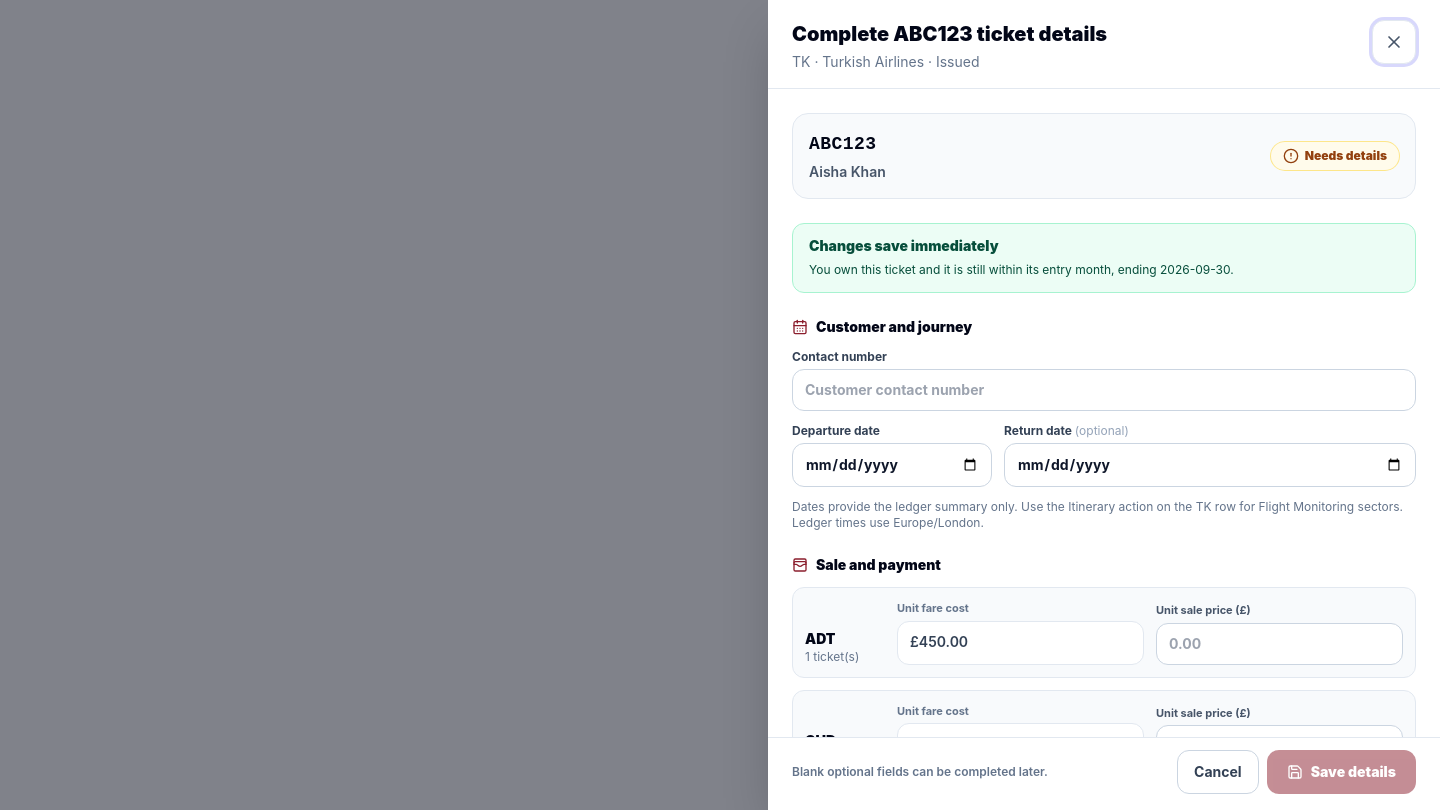
TicketCompletionDrawer › requires all missing issued sale prices together and all sales before Paid
This screenshot has width=1440, height=810.
Expected: the dialog "Complete ABC123 ticket details" is shown, x1=768 y1=0 x2=1439 y2=809
Type "525" into the field named "ADT unit sale price" at (1280, 644), box x1=1156 y1=622 x2=1403 y2=664
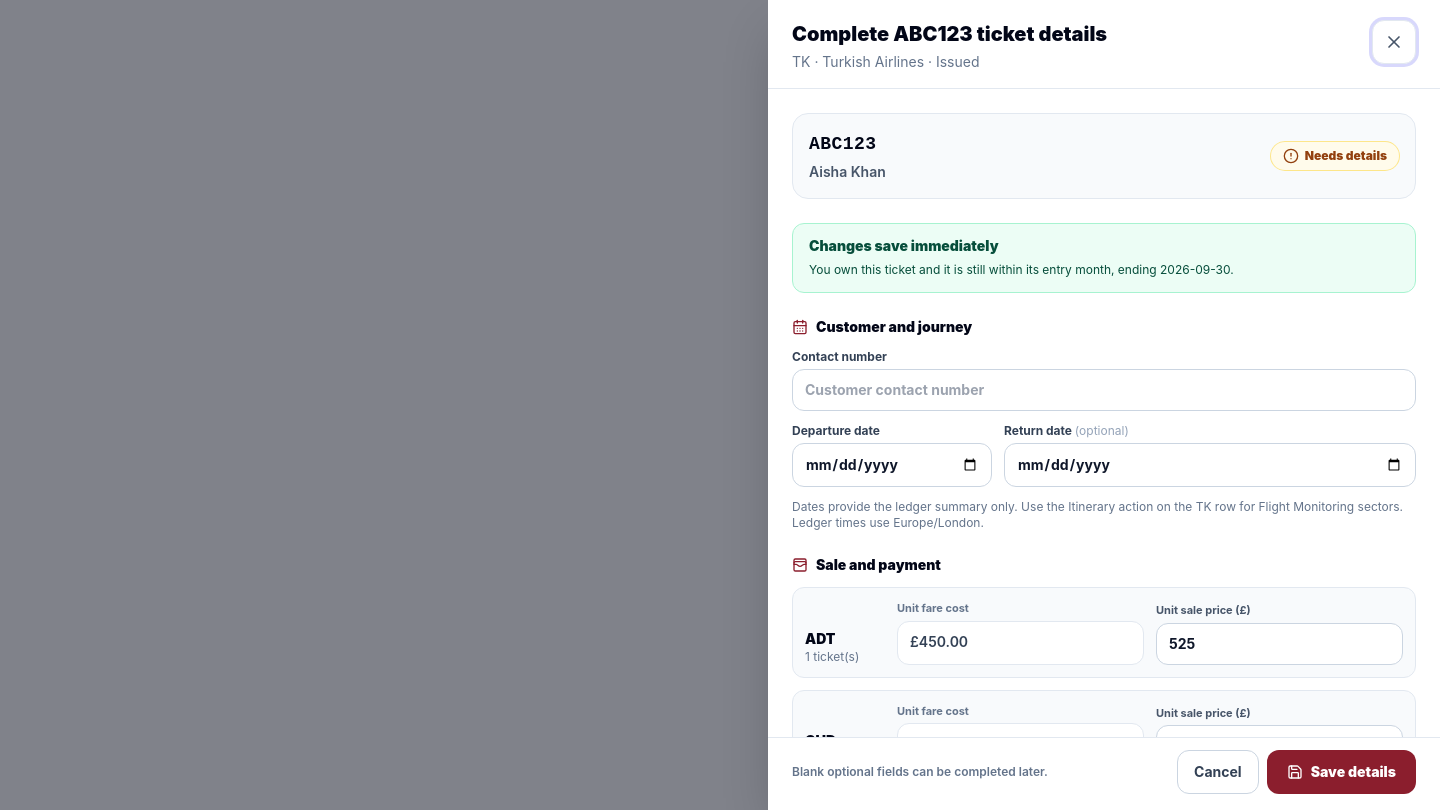
Click the button "Save details" at (1341, 772), box x1=1267 y1=750 x2=1416 y2=794
(page scrolled)
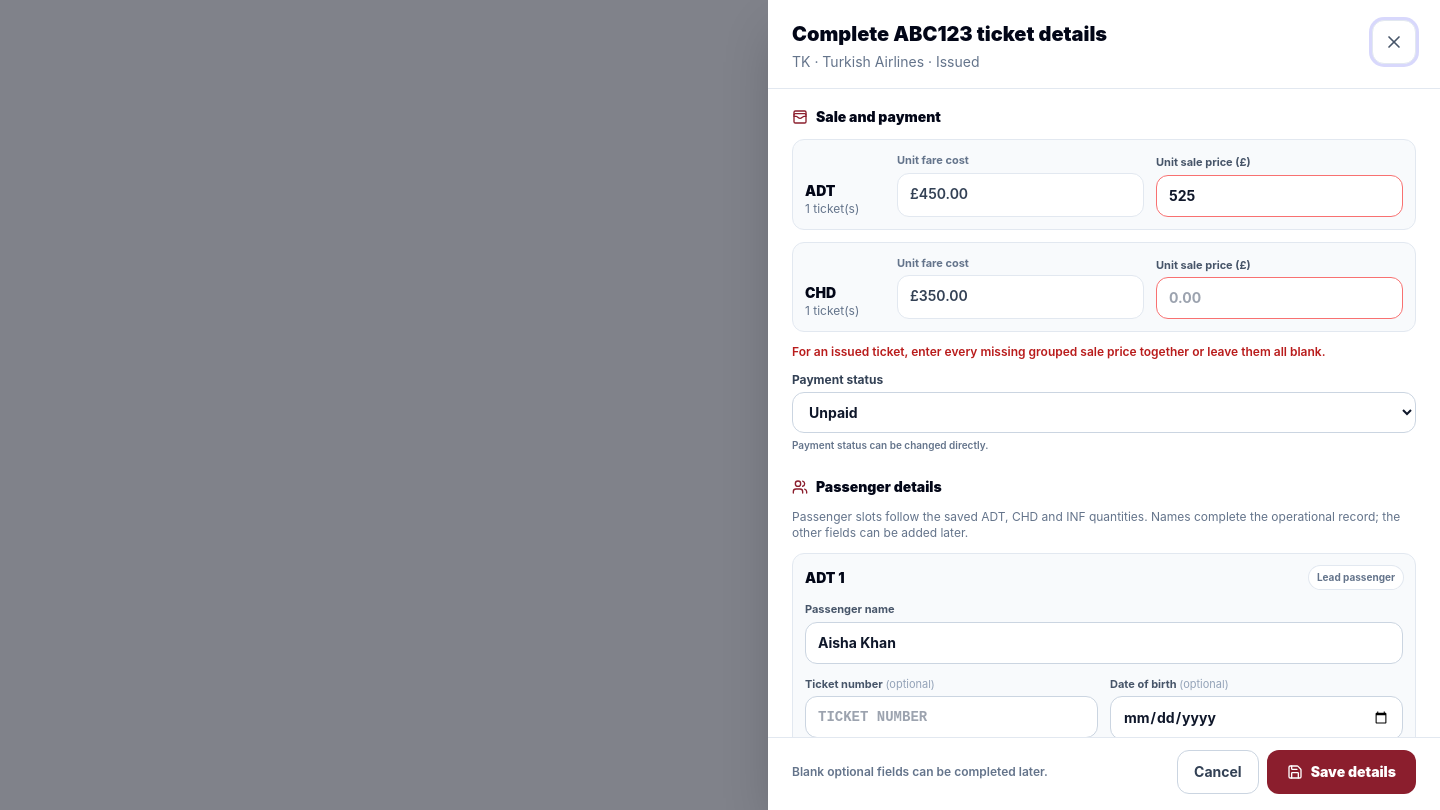
Expected: the text "For an issued ticket, enter every missing grouped sale price together or leave them all blank." is shown, x1=792 y1=344 x2=1326 y2=359
Select "Paid" in the dropdown labelled "Payment status" at (1104, 412), box x1=792 y1=392 x2=1416 y2=433
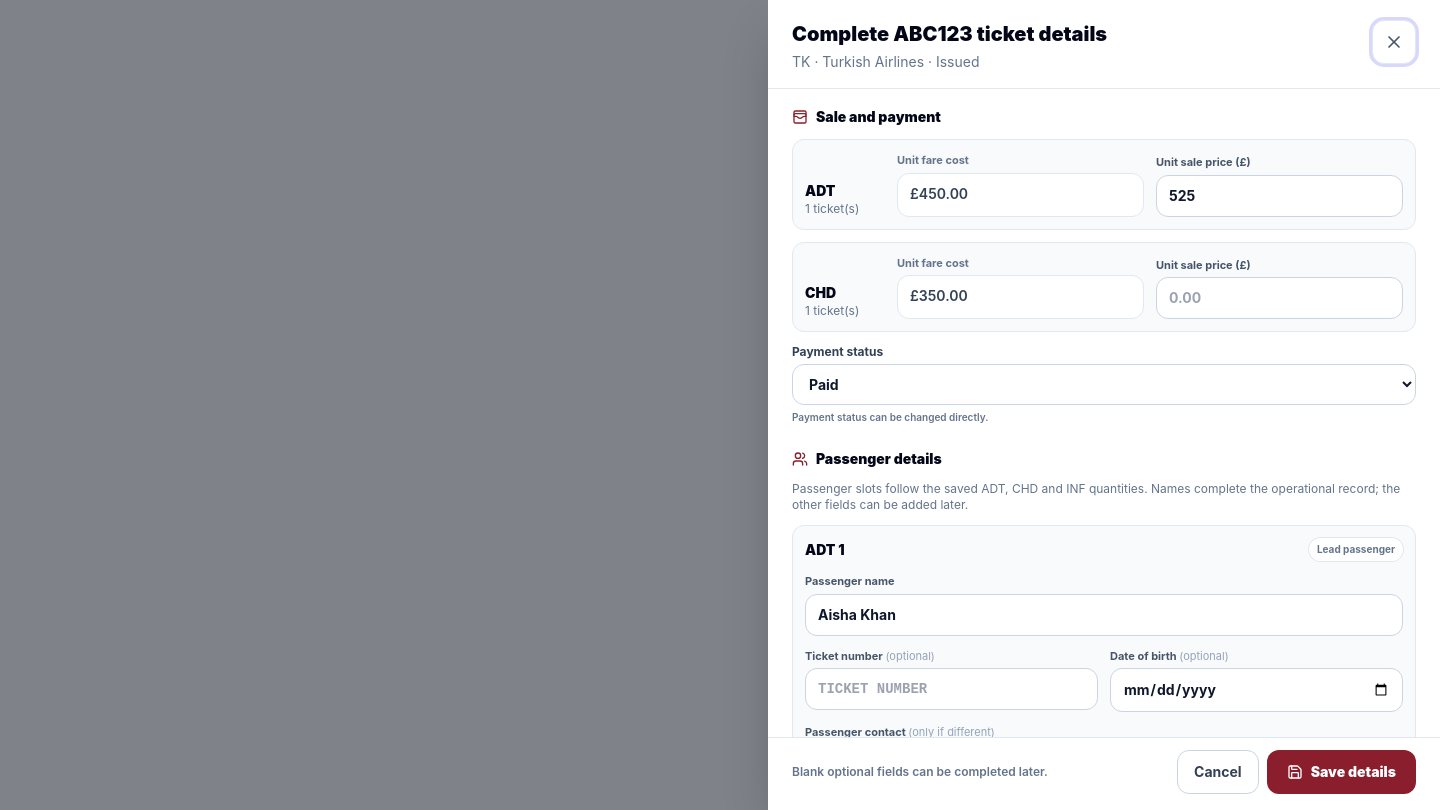
Click the button "Save details" at (1341, 772), box x1=1267 y1=750 x2=1416 y2=794
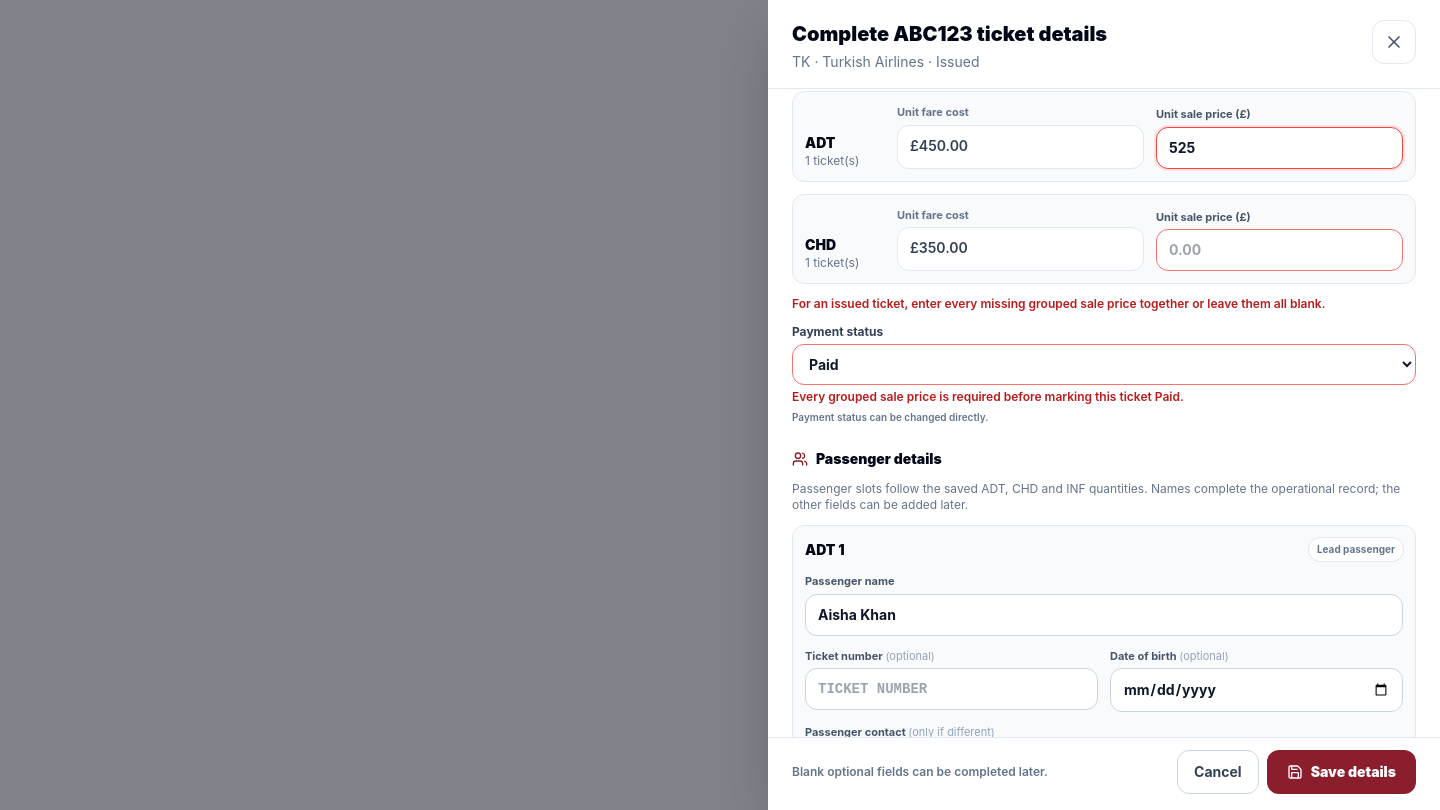
Expected: the text "Every grouped sale price is required before marking this ticket Paid." is shown, x1=792 y1=389 x2=1184 y2=404
